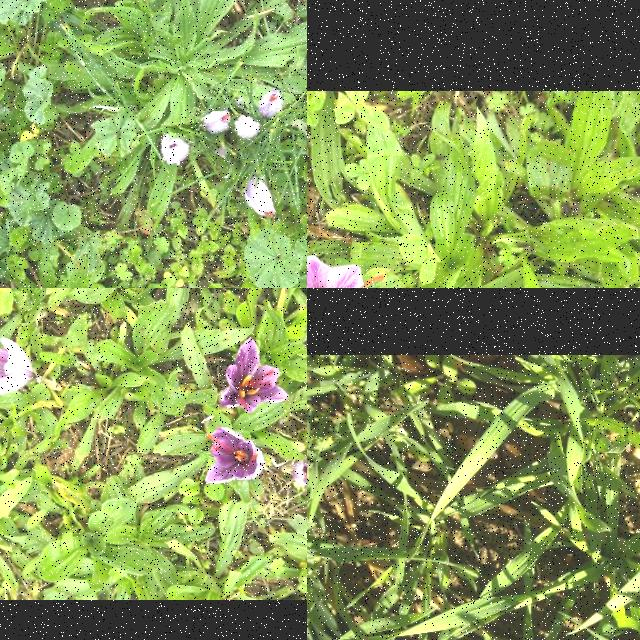flower: (221, 340, 289, 412), (208, 429, 266, 485), (307, 256, 396, 288), (0, 337, 34, 395), (244, 178, 276, 220), (161, 134, 191, 166), (200, 110, 232, 136), (258, 88, 284, 118), (292, 454, 307, 503), (234, 114, 262, 140)
